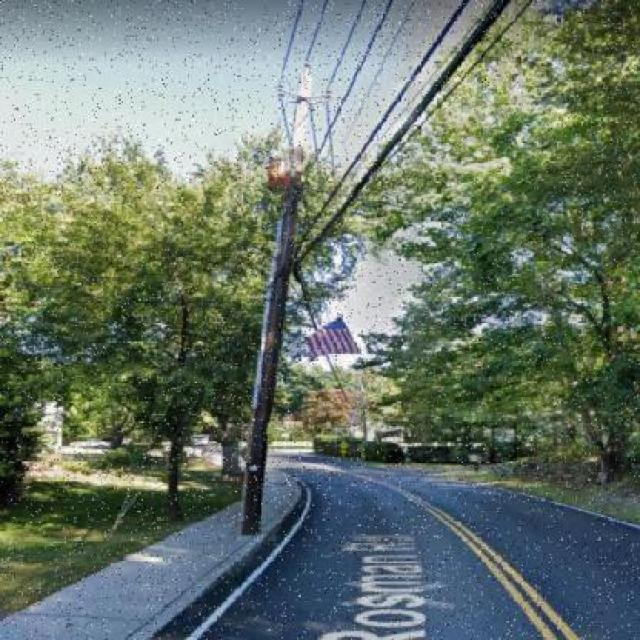pole: (196, 32, 350, 546)
